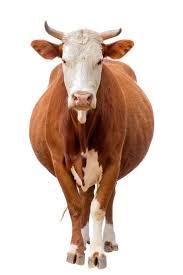cow: (31, 30, 154, 269)
